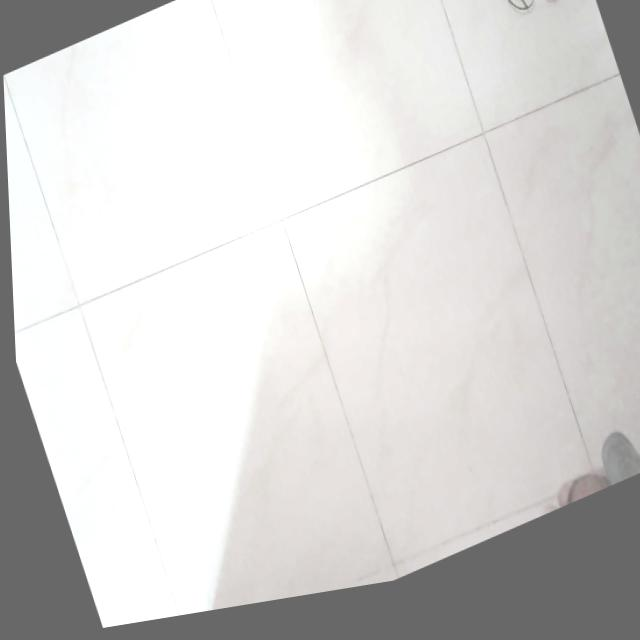drone: (500, 0, 565, 29)
